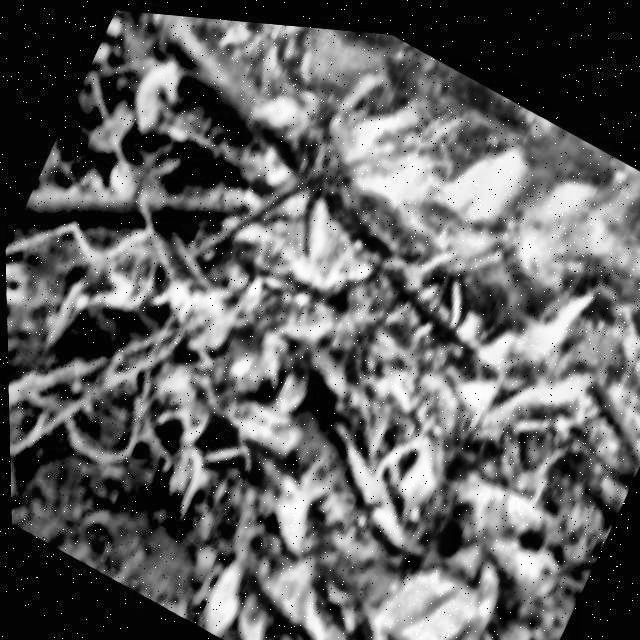Fire: (243, 17, 640, 451)
